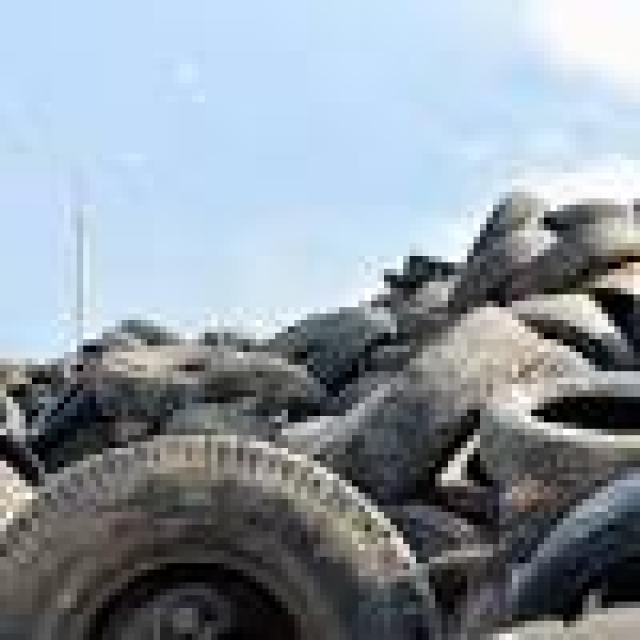Rubber -Non-Biodegradable but Recyclable-: (0, 197, 640, 637)
